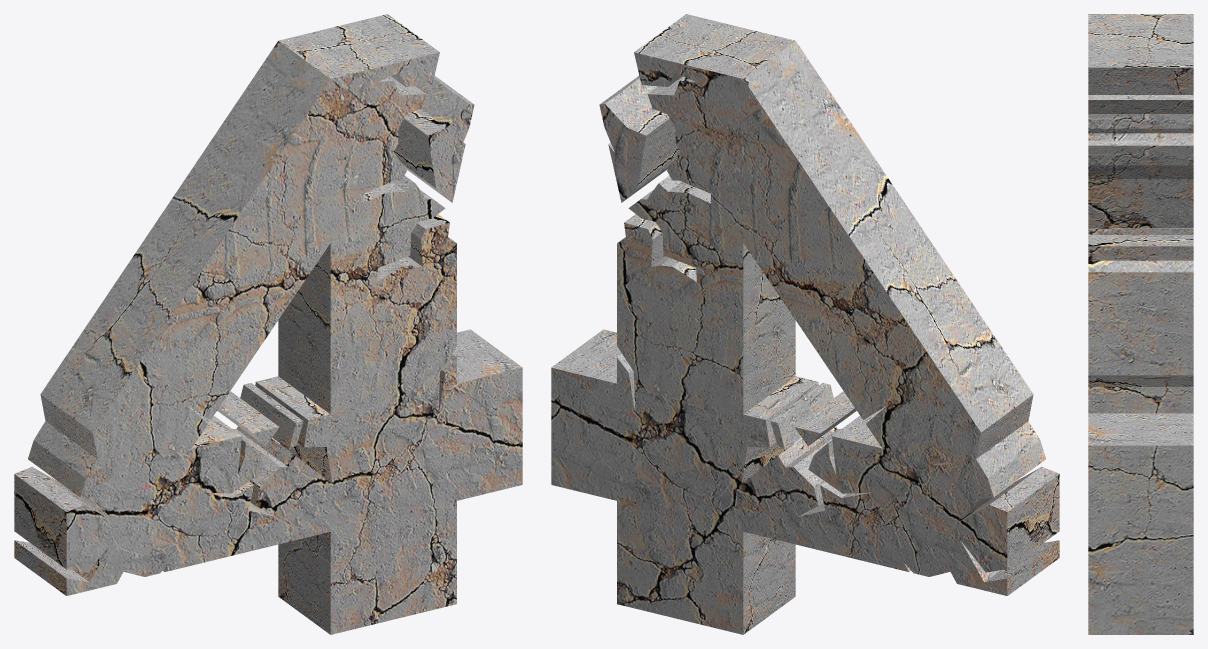
The picture shows the model from 3 angles, left to right: view 1: azimuth 30°, elevation 25°; view 2: azimuth 150°, elevation 25°; view 3: azimuth 270°, elevation 25°; orthographic projection.
Visible parts, largest first — view 1: 4; view 2: 4; view 3: 4.
Part boxes in pixels (x1,y1,x2,y2): 4: (14, 14, 522, 634); 4: (551, 14, 1059, 634); 4: (1088, 14, 1193, 634).
Bounding box in the file's own units: 75.48 × 87.89 × 15.
Materials: 1 (1 with a texture image).
